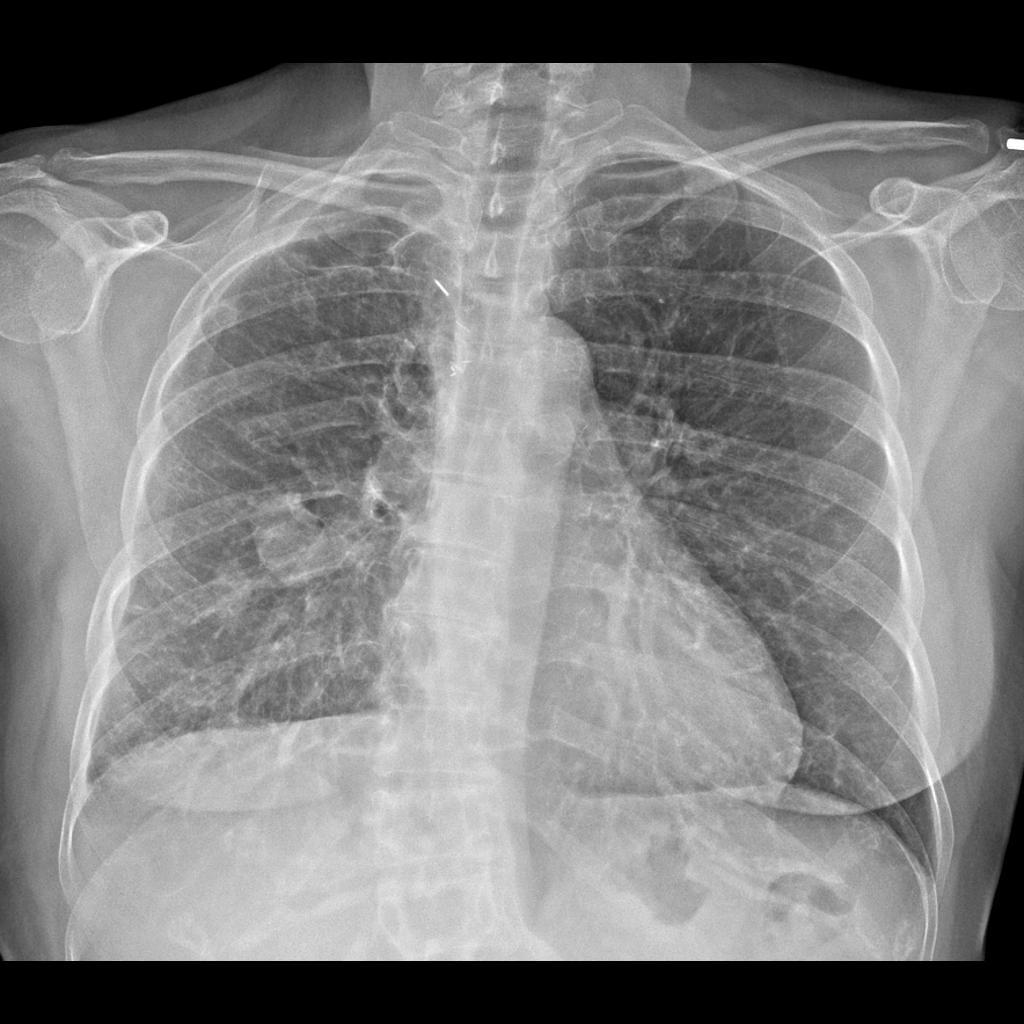Nodule: (250, 486, 335, 589)
